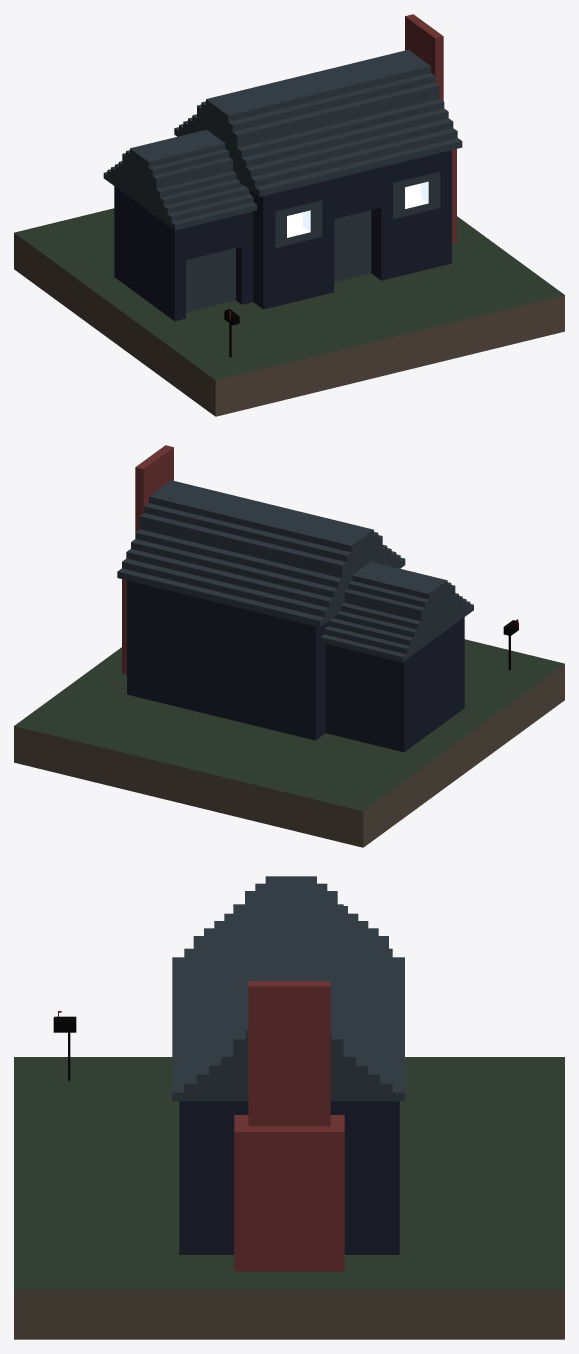
File: house-2.glb
3 renders of one model, top to bottom at view 1: azimuth 30°, elevation 25°; view 2: azimuth 150°, elevation 25°; view 3: azimuth 270°, elevation 25°, orthographic. The views are drawn at different scales.
Visible parts, largest first — view 1: House::New.001; view 2: House::New.001; view 3: House::New.001.
Part boxes in pixels (left/top/right/bottom): House::New.001: left=14, top=14, right=564, bottom=416; House::New.001: left=14, top=445, right=564, bottom=847; House::New.001: left=14, top=876, right=564, bottom=1339.
Size of the model in its own units: 1 by 0.66 by 1.
